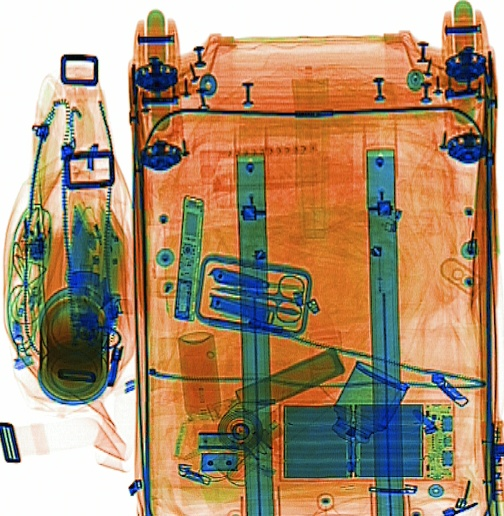powerbank: (278, 398, 458, 483)
pressure: (173, 330, 224, 437)
scissors: (211, 271, 306, 325)
